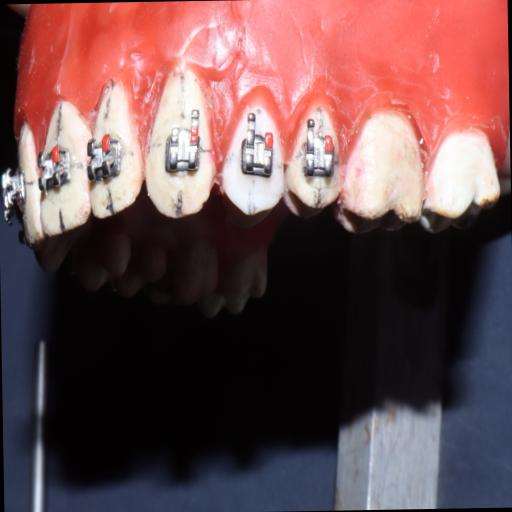incorrect_brace: (160, 124, 206, 182)
